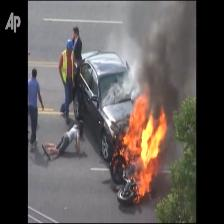fire: (128, 108, 165, 189)
smoke: (136, 1, 189, 98)
